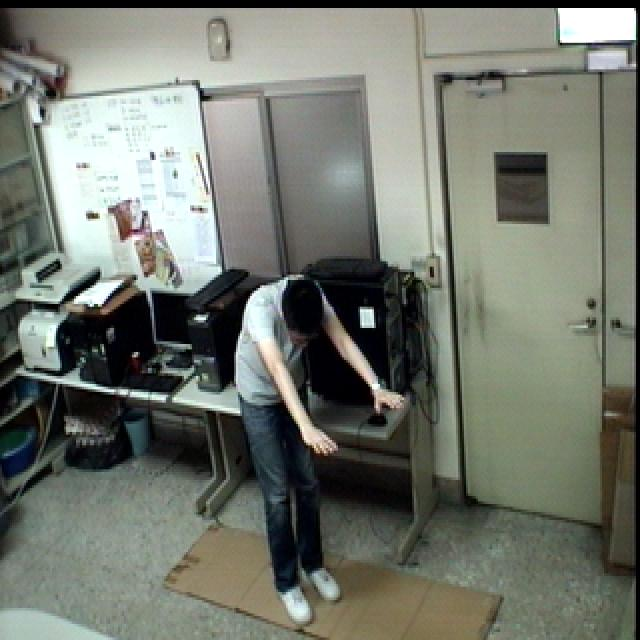bend: (233, 267, 408, 628)
